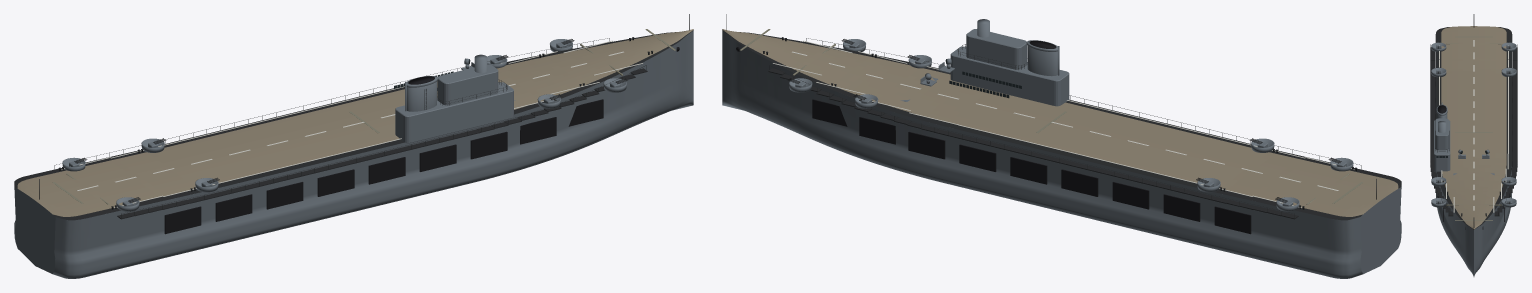
The model's file is casablanca.glb.
3 renders of one model, left to right at view 1: azimuth 30°, elevation 25°; view 2: azimuth 150°, elevation 25°; view 3: azimuth 270°, elevation 25°, orthographic. The views are drawn at different scales.
Visible parts, largest first — view 1: casablanca; view 2: casablanca; view 3: casablanca.
Part boxes in pixels (<box>): casablanca: <box>14,14,693,278</box>; casablanca: <box>722,14,1401,278</box>; casablanca: <box>1430,14,1517,276</box>.
Size of the model in its own units: 156 by 28 by 27.4.
